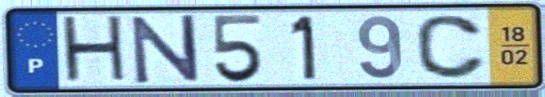1: (287, 14, 320, 82)
5: (209, 12, 263, 85)
9: (354, 14, 405, 81)
C: (412, 13, 490, 81)
H: (58, 13, 132, 87)
N: (127, 12, 203, 87)
